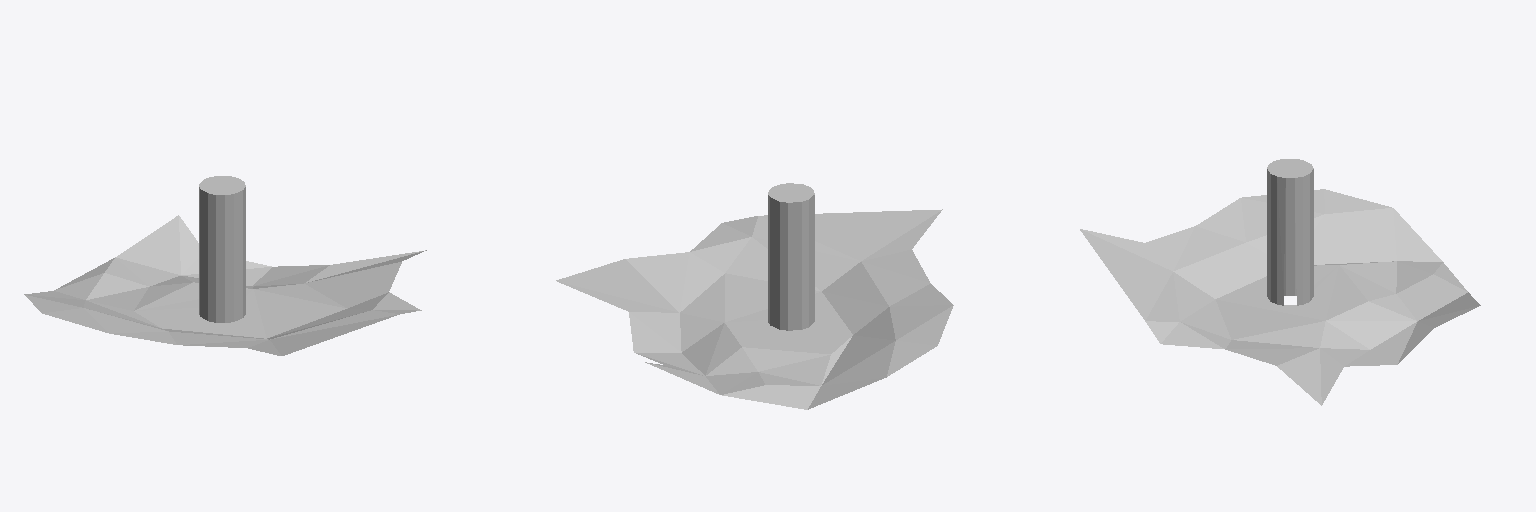
3 views of the same model, side by side, from view 1: azimuth 30°, elevation 25°; view 2: azimuth 150°, elevation 25°; view 3: azimuth 270°, elevation 25° (orthographic).
Visible parts, largest first — view 1: Circle.003_Circle.005, pillar_with_door_Circle.001; view 2: Circle.003_Circle.005, pillar_with_door_Circle.001; view 3: Circle.003_Circle.005, pillar_with_door_Circle.001.
Part boxes in pixels (x1,y1,x2,y2): Circle.003_Circle.005: (24,215,426,355); pillar_with_door_Circle.001: (199,176,245,322); Circle.003_Circle.005: (556,209,953,409); pillar_with_door_Circle.001: (768,183,814,330); Circle.003_Circle.005: (1080,189,1480,405); pillar_with_door_Circle.001: (1267,159,1313,305).
Bounding box in the file's own units: 94.19 × 34.56 × 85.38.